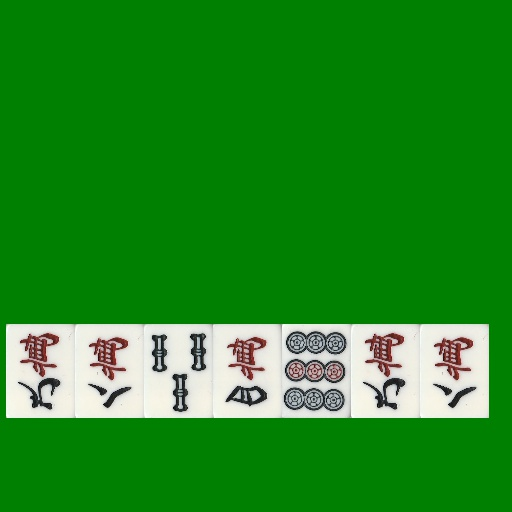3s: (144, 324, 213, 418)
4m: (213, 324, 282, 418)
8m: (75, 324, 144, 418), (420, 324, 489, 418)
9m: (6, 324, 75, 418), (351, 324, 420, 418)
9p: (282, 324, 351, 418)
